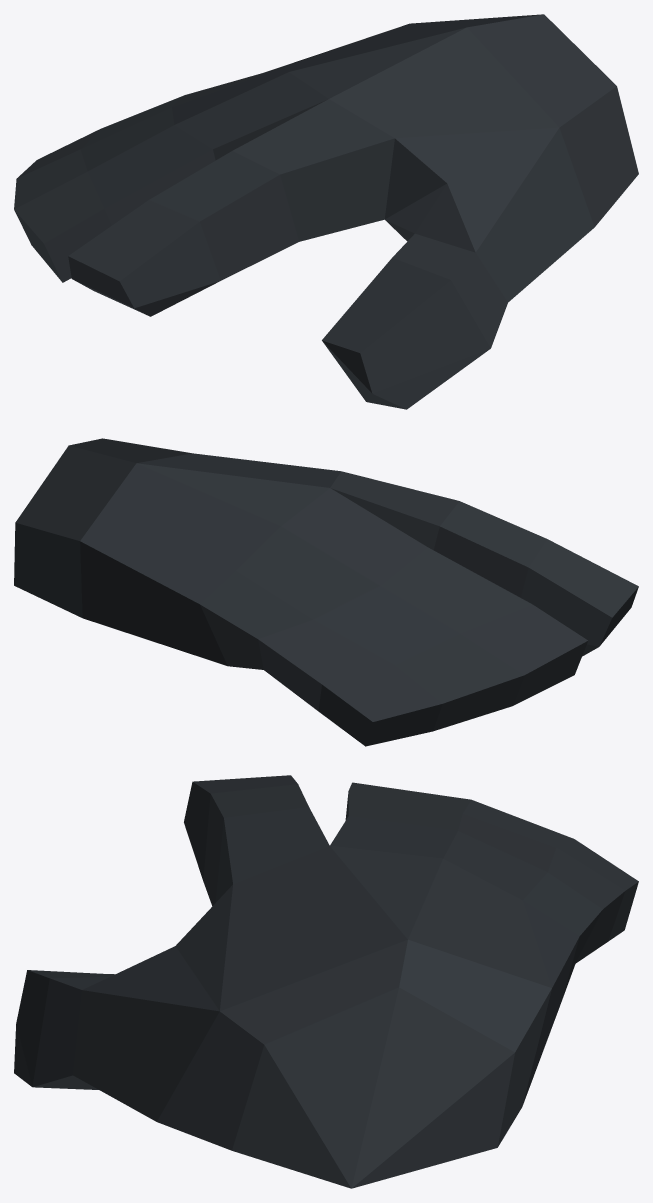
File: Chr_HandRight_Male_01_Static.fbx
3 views of the same model, one above another, from view 1: azimuth 30°, elevation 25°; view 2: azimuth 150°, elevation 25°; view 3: azimuth 270°, elevation 25° (orthographic). The views are drawn at different scales.
Parts seen in each view (by area): view 1: Chr_HandRight_Male_01_Static; view 2: Chr_HandRight_Male_01_Static; view 3: Chr_HandRight_Male_01_Static.
Boxes of the visible parts, x1,y1,x2,y2 form: Chr_HandRight_Male_01_Static: [14, 14, 638, 409]; Chr_HandRight_Male_01_Static: [14, 438, 638, 746]; Chr_HandRight_Male_01_Static: [14, 775, 638, 1188].
Bounding box in the file's own units: 0.237 × 0.0952 × 0.188.
